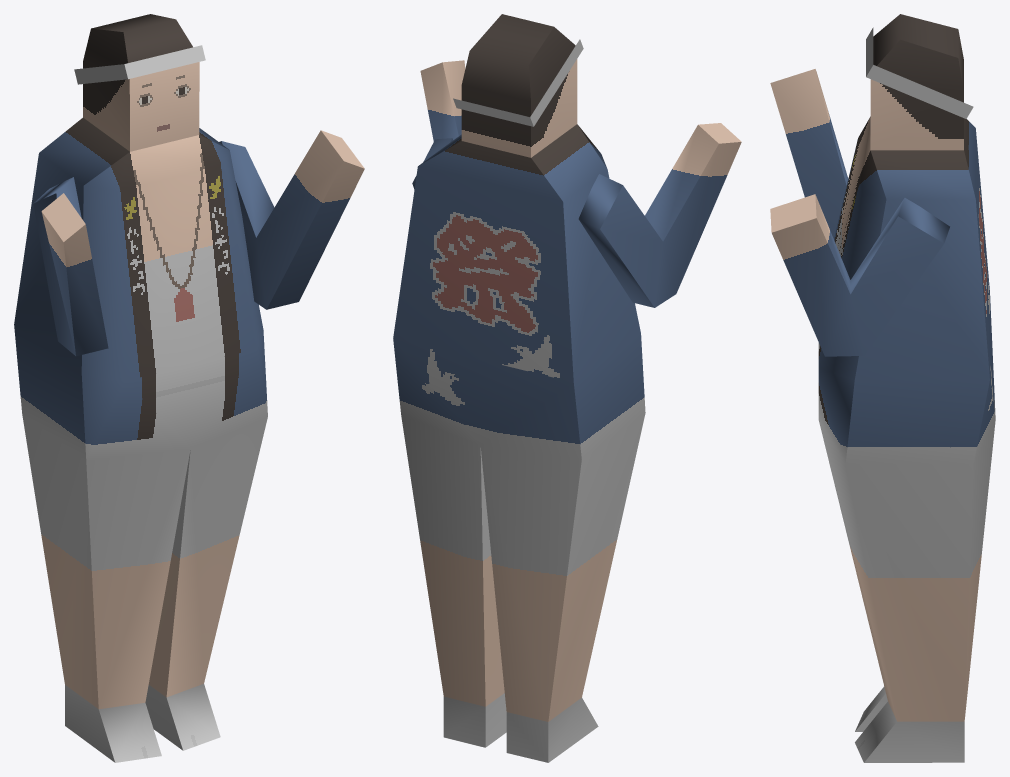
The model's file is 0243_Strongman.glb.
3 renders of one model, left to right at view 1: azimuth 30°, elevation 25°; view 2: azimuth 150°, elevation 25°; view 3: azimuth 270°, elevation 25°, orthographic.
Visible parts, largest first — view 1: part_0; view 2: part_0; view 3: part_0.
Boxes of the visible parts, box(x1,y1,x2,y2) form: part_0: box(14, 14, 364, 762); part_0: box(393, 14, 741, 762); part_0: box(770, 14, 995, 762).
Size of the model in its own units: 0.7442 by 1.68 by 0.4824.
1 material, 1 textured.
